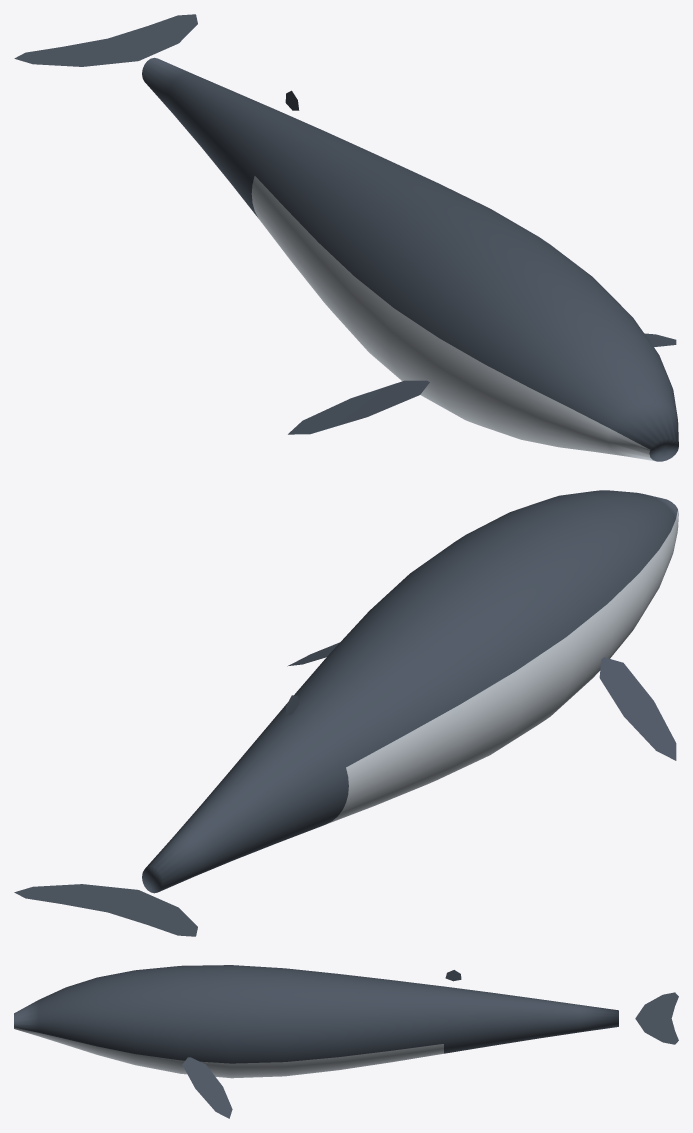
The model's file is whale.glb.
The picture shows the model from 3 angles, top to bottom: view 1: azimuth 30°, elevation 25°; view 2: azimuth 150°, elevation 25°; view 3: azimuth 270°, elevation 25°; orthographic projection. The views are drawn at different scales.
Parts seen in each view (by area): view 1: Whale; view 2: Whale; view 3: Whale.
Boxes of the visible parts, <box> form: Whale: <box>14,14,678,461</box>; Whale: <box>14,490,678,936</box>; Whale: <box>14,965,678,1118</box>.
Bounding box in the file's own units: 9.21 × 3.91 × 23.09.
